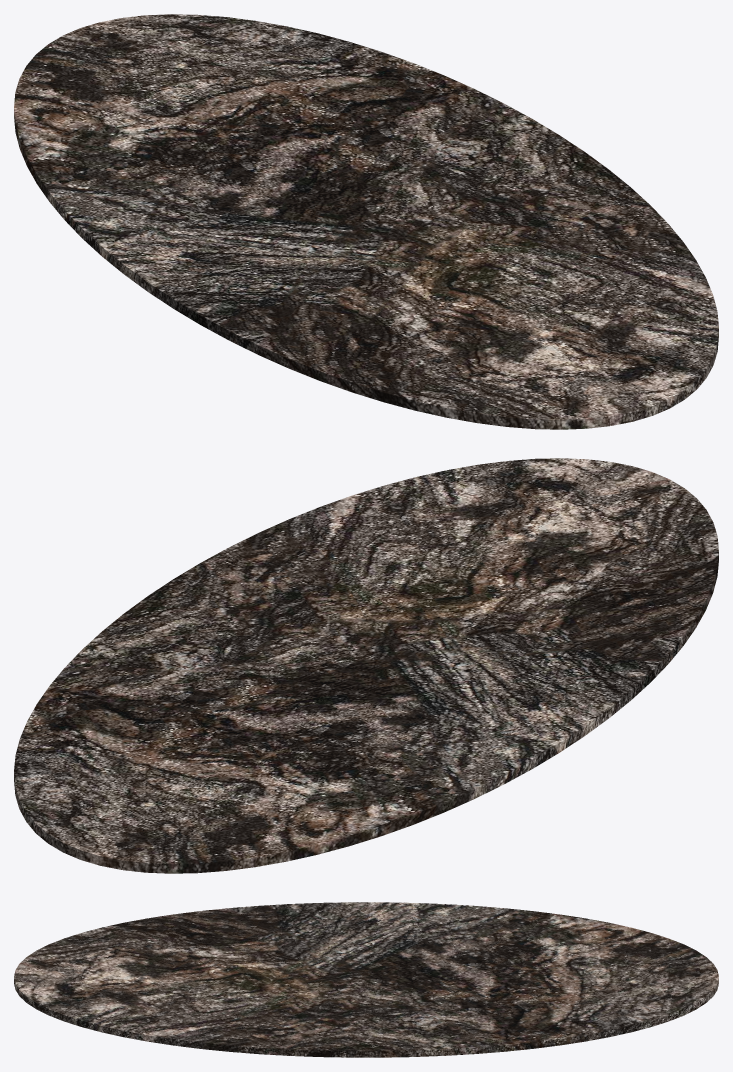
File: OvalTable.glb
3 views of the same model, one above another, from view 1: azimuth 30°, elevation 25°; view 2: azimuth 150°, elevation 25°; view 3: azimuth 270°, elevation 25° (orthographic). The views are drawn at different scales.
Visible parts, largest first — view 1: Circle; view 2: Circle; view 3: Circle.
Boxes of the visible parts, <box> form: Circle: <box>14,14,718,429</box>; Circle: <box>14,458,718,873</box>; Circle: <box>14,902,718,1057</box>.
Size of the model in its own units: 1 by 0.02 by 2.
1 material, 1 textured.
